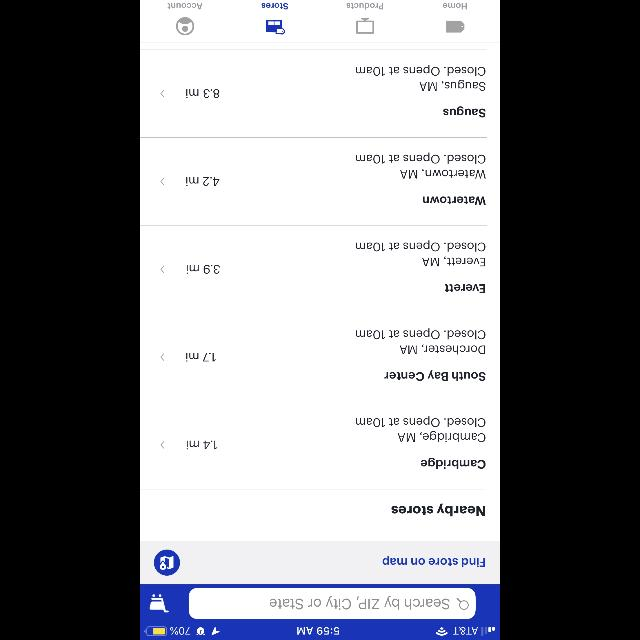icon: (154, 549, 180, 575), (150, 594, 168, 612), (176, 17, 194, 35), (446, 21, 464, 33), (456, 597, 468, 609), (160, 354, 164, 361), (160, 178, 164, 185), (160, 442, 164, 448), (160, 266, 164, 272), (160, 90, 164, 96)
image: (356, 18, 374, 34), (266, 20, 284, 34)
input: (189, 588, 475, 618)
text: (356, 416, 486, 442), (356, 328, 486, 354), (269, 596, 449, 610), (355, 240, 485, 252), (356, 152, 486, 164), (356, 64, 486, 76), (391, 504, 485, 516), (383, 556, 485, 566), (384, 370, 486, 380), (400, 169, 486, 179), (420, 458, 486, 468), (419, 80, 485, 90), (422, 257, 484, 267), (422, 197, 486, 206), (443, 106, 485, 118), (187, 264, 220, 274), (445, 284, 485, 292), (186, 440, 218, 450), (187, 177, 220, 186), (187, 352, 216, 362), (187, 90, 220, 98), (346, 3, 384, 9), (168, 3, 202, 9), (262, 3, 288, 9), (443, 3, 467, 9)
uppertaskbar: (140, 626, 500, 640)
